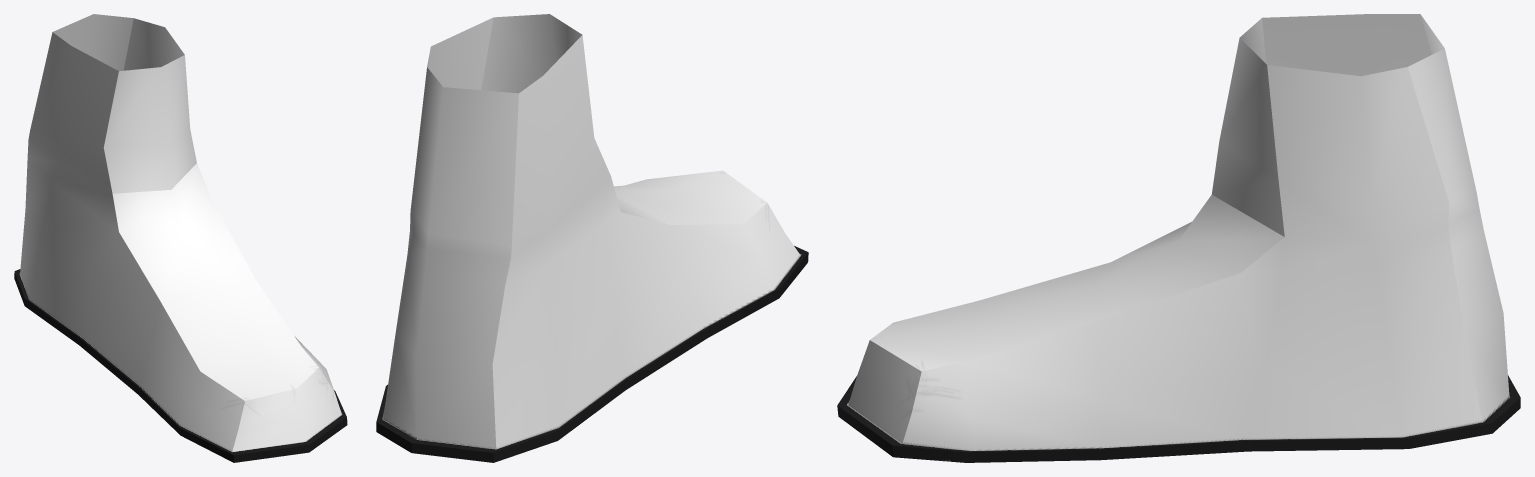
Rendered from iceSkate_L.fbx.
3 renders of one model, left to right at view 1: azimuth 30°, elevation 25°; view 2: azimuth 150°, elevation 25°; view 3: azimuth 270°, elevation 25°, orthographic. The views are drawn at different scales.
Visible parts, largest first — view 1: polySurface3; view 2: polySurface3; view 3: polySurface3.
Part boxes in pixels (x1,y1,x2,y2): polySurface3: (14,14,347,462); polySurface3: (376,14,808,462); polySurface3: (837,14,1520,462).
Size of the model in its own units: 10.8 by 18.42 by 29.99.
Materials: 1 (1 with a texture image).
